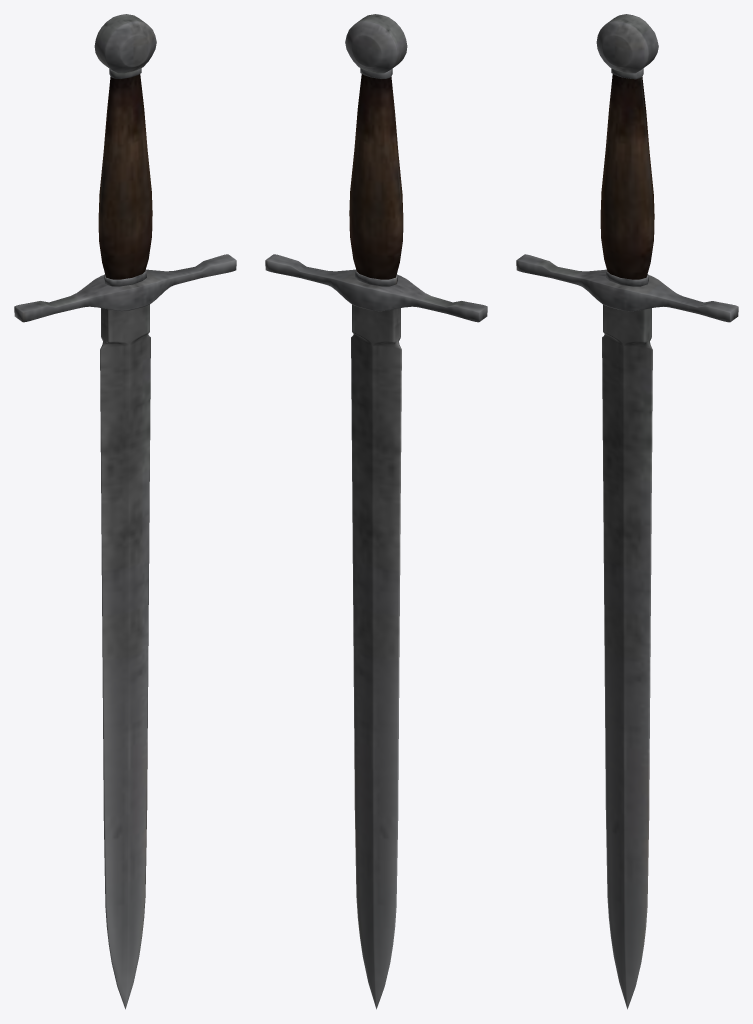
Rendered from weapon-wp_a_0199.glb.
The picture shows the model from 3 angles, left to right: view 1: azimuth 30°, elevation 25°; view 2: azimuth 150°, elevation 25°; view 3: azimuth 330°, elevation 25°; orthographic projection.
Visible parts, largest first — view 1: wp_a_0199_mesh; view 2: wp_a_0199_mesh; view 3: wp_a_0199_mesh.
Part boxes in pixels (bbox=[...]): wp_a_0199_mesh: bbox=[14, 14, 236, 1009]; wp_a_0199_mesh: bbox=[265, 14, 487, 1009]; wp_a_0199_mesh: bbox=[516, 14, 738, 1009].
Bounding box in the file's own units: 0.2043 × 0.9022 × 0.0368.
1 material, 1 textured.
